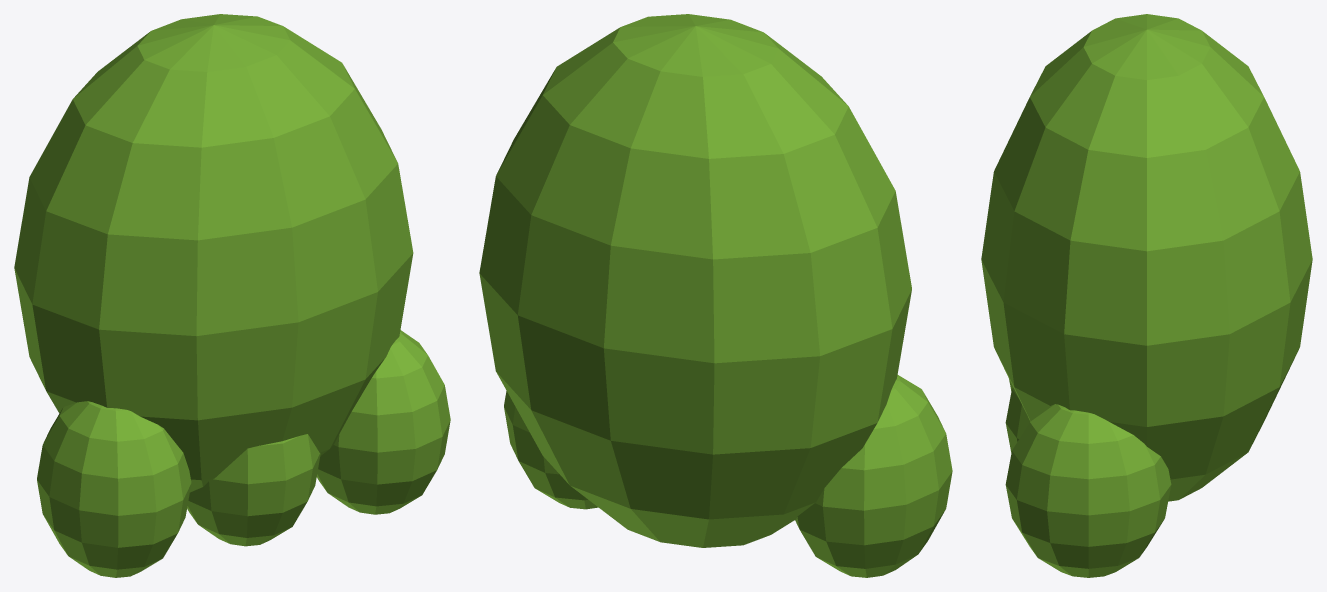
The model's file is venom.glb.
3 renders of one model, left to right at view 1: azimuth 30°, elevation 25°; view 2: azimuth 150°, elevation 25°; view 3: azimuth 270°, elevation 25°, orthographic. The views are drawn at different scales.
Parts seen in each view (by area): view 1: venom, Drip, Drip.002, Drip.001; view 2: venom, Drip, Drip.002; view 3: venom, Drip.002, Drip.001.
Part boxes in pixels (box(x1,y1,x2,y2)): venom: box(14, 14, 413, 492); Drip: box(37, 401, 191, 577); Drip.002: box(316, 330, 450, 514); Drip.001: box(187, 434, 320, 546); venom: box(479, 14, 911, 547); Drip: box(795, 375, 952, 577); Drip.002: box(504, 391, 598, 509); venom: box(981, 14, 1312, 501); Drip.002: box(1005, 404, 1171, 577); Drip.001: box(1005, 387, 1029, 452).
Bounding box in the file's own units: 0.9 × 1.09 × 0.68.
